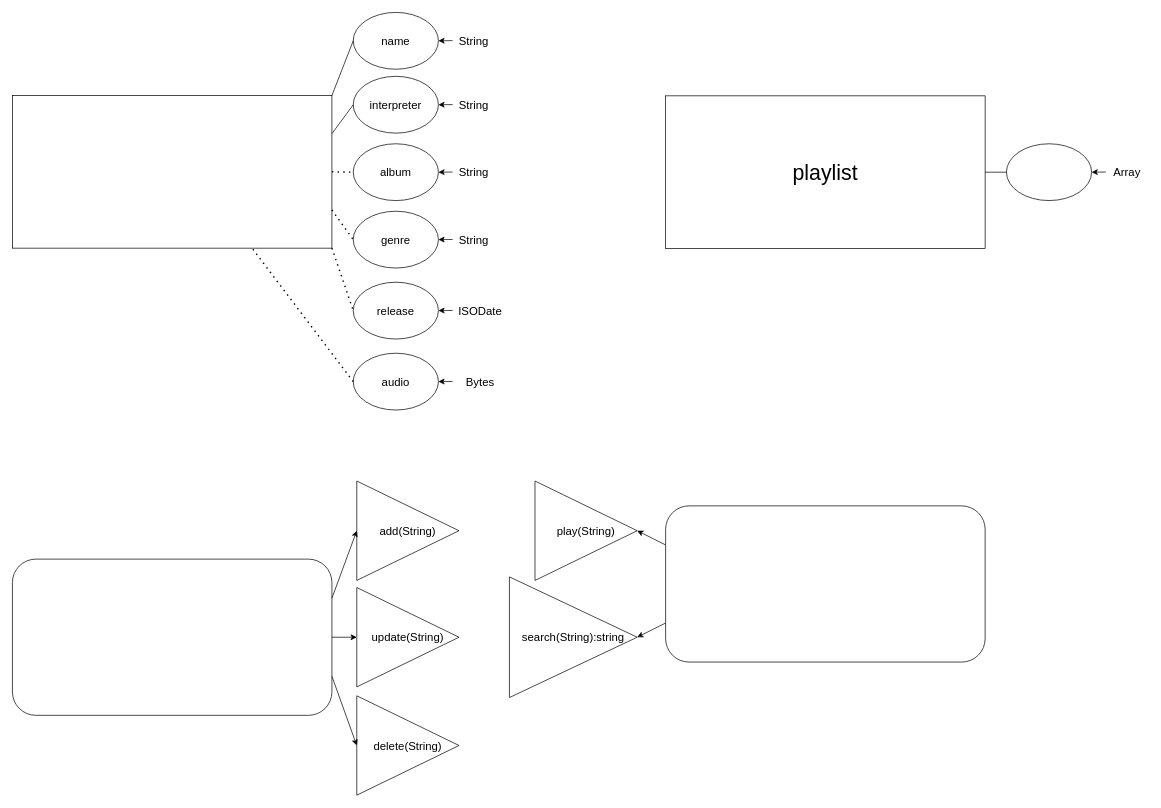
Image size: 1161x808. Some labels were removed from this diagram. Here are the shapes that lost their labels. From the top down, the centre of each, then its label:
At point (172, 171): "song".
At point (1049, 172): "songs".
At point (825, 583): "player".
At point (172, 636): "manager".
